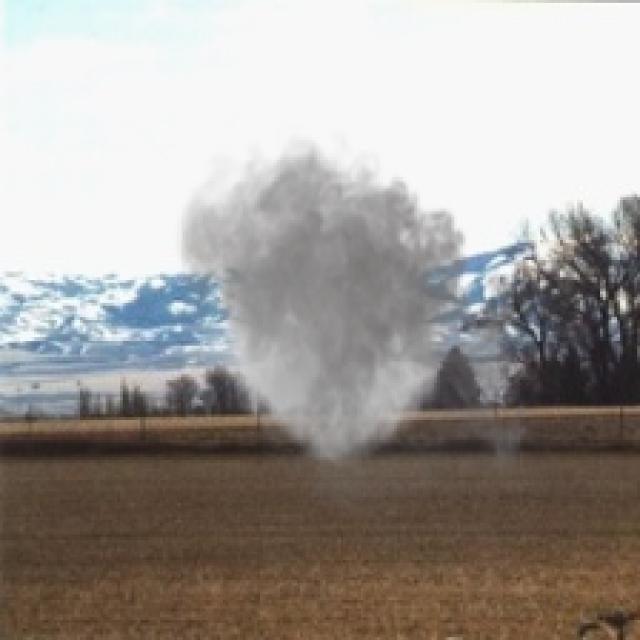smoke: (163, 123, 540, 537)
